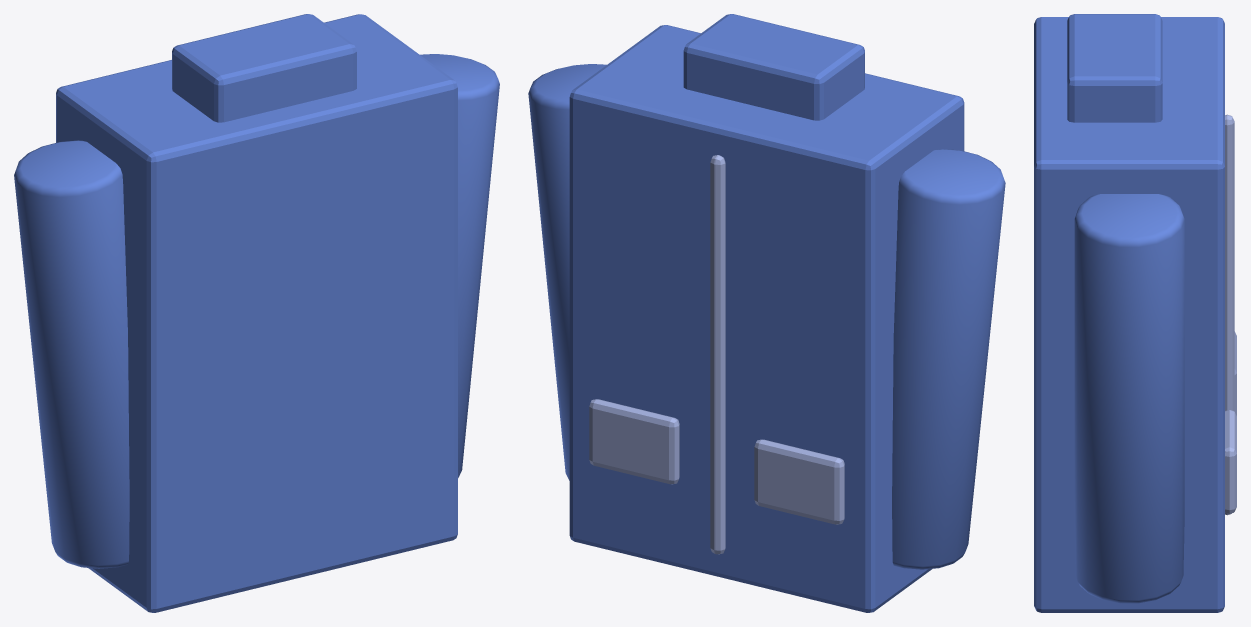
File: VM-CAB-3109.glb
3 renders of one model, left to right at view 1: azimuth 30°, elevation 25°; view 2: azimuth 150°, elevation 25°; view 3: azimuth 270°, elevation 25°, orthographic.
Parts seen in each view (by area): view 1: Bomber Jacket Cobalt Neo; view 2: Bomber Jacket Cobalt Neo; view 3: Bomber Jacket Cobalt Neo.
Boxes of the visible parts, box(x1,y1,x2,y2) form: Bomber Jacket Cobalt Neo: box(14, 14, 499, 612); Bomber Jacket Cobalt Neo: box(528, 14, 1005, 612); Bomber Jacket Cobalt Neo: box(1034, 14, 1236, 612).
Bounding box in the file's own units: 0.8073 × 0.829 × 0.3071.
